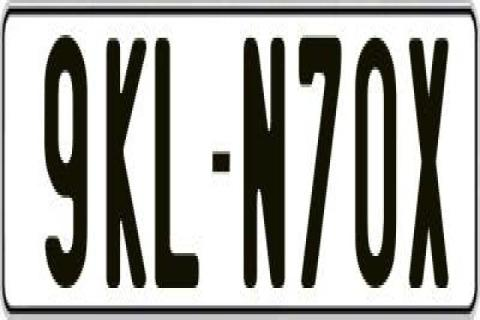0: (45, 32, 95, 291), (352, 32, 400, 291), (297, 29, 341, 297)
K: (106, 35, 146, 303)
L: (156, 29, 200, 282)
N: (244, 38, 288, 306)
X: (408, 29, 448, 294)
